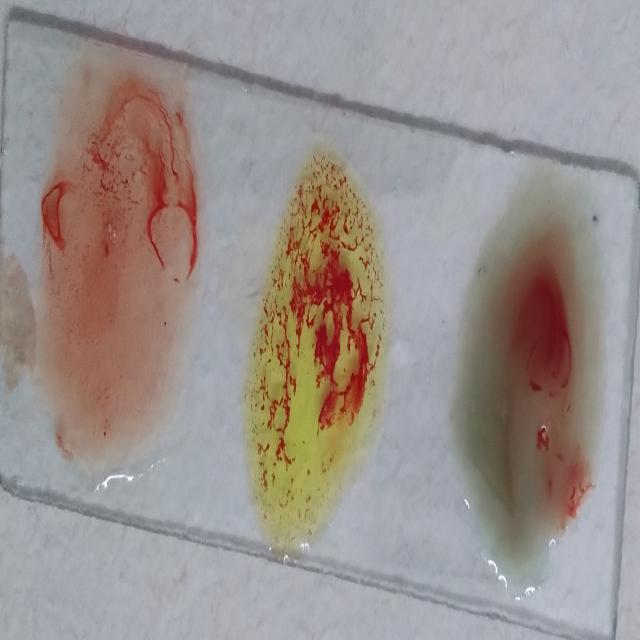B: (251, 145, 382, 555)
D: (47, 67, 197, 461)
